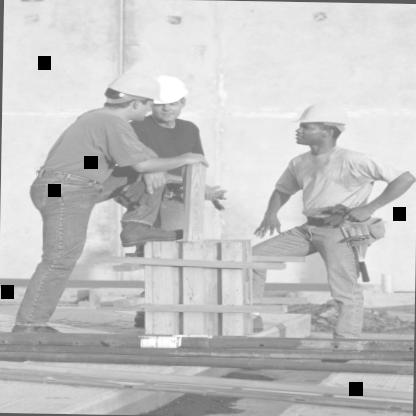helmet: (98, 67, 174, 123), (288, 95, 358, 155), (142, 73, 192, 126)
